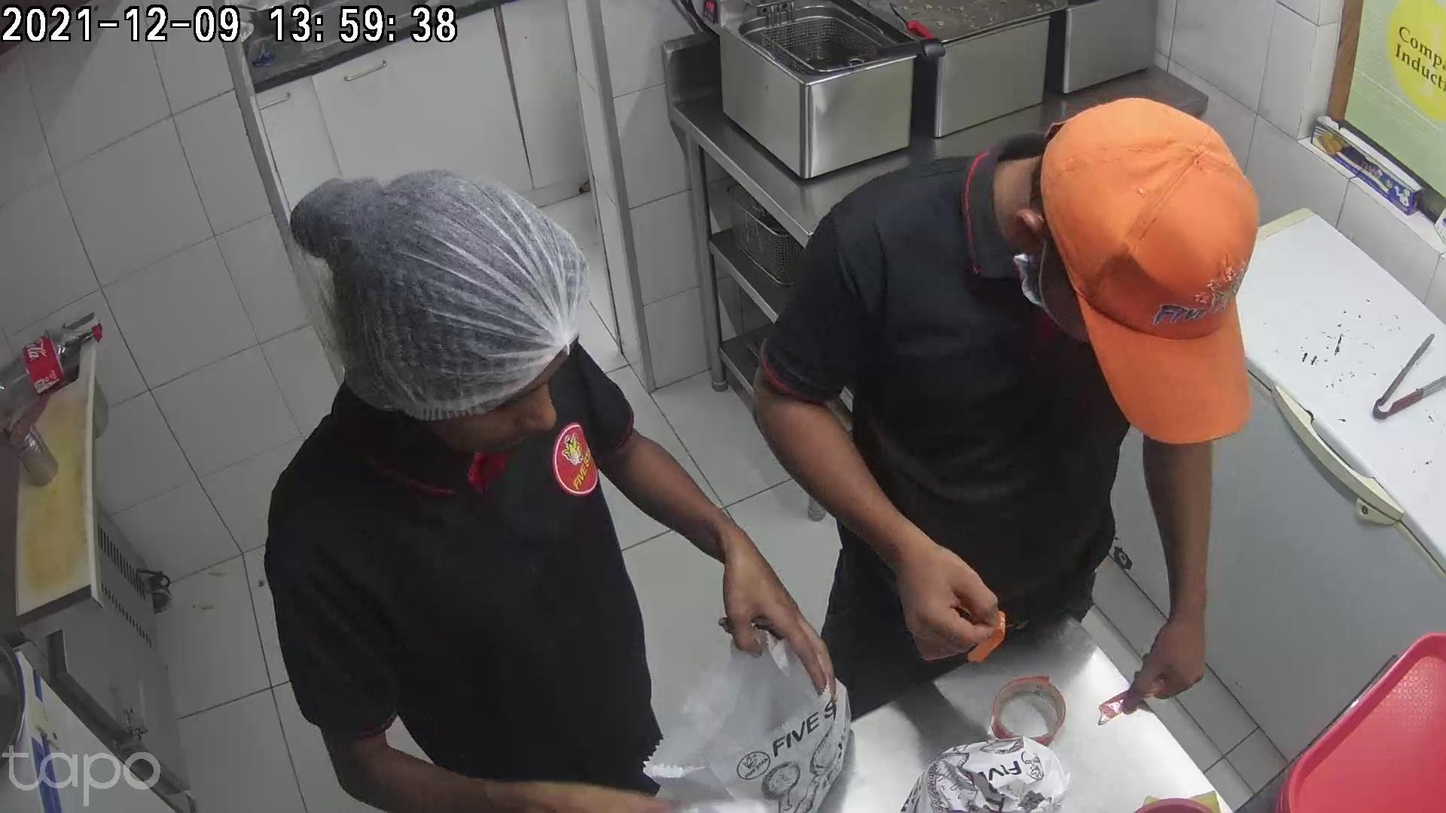no_gloves: (881, 520, 997, 656)
